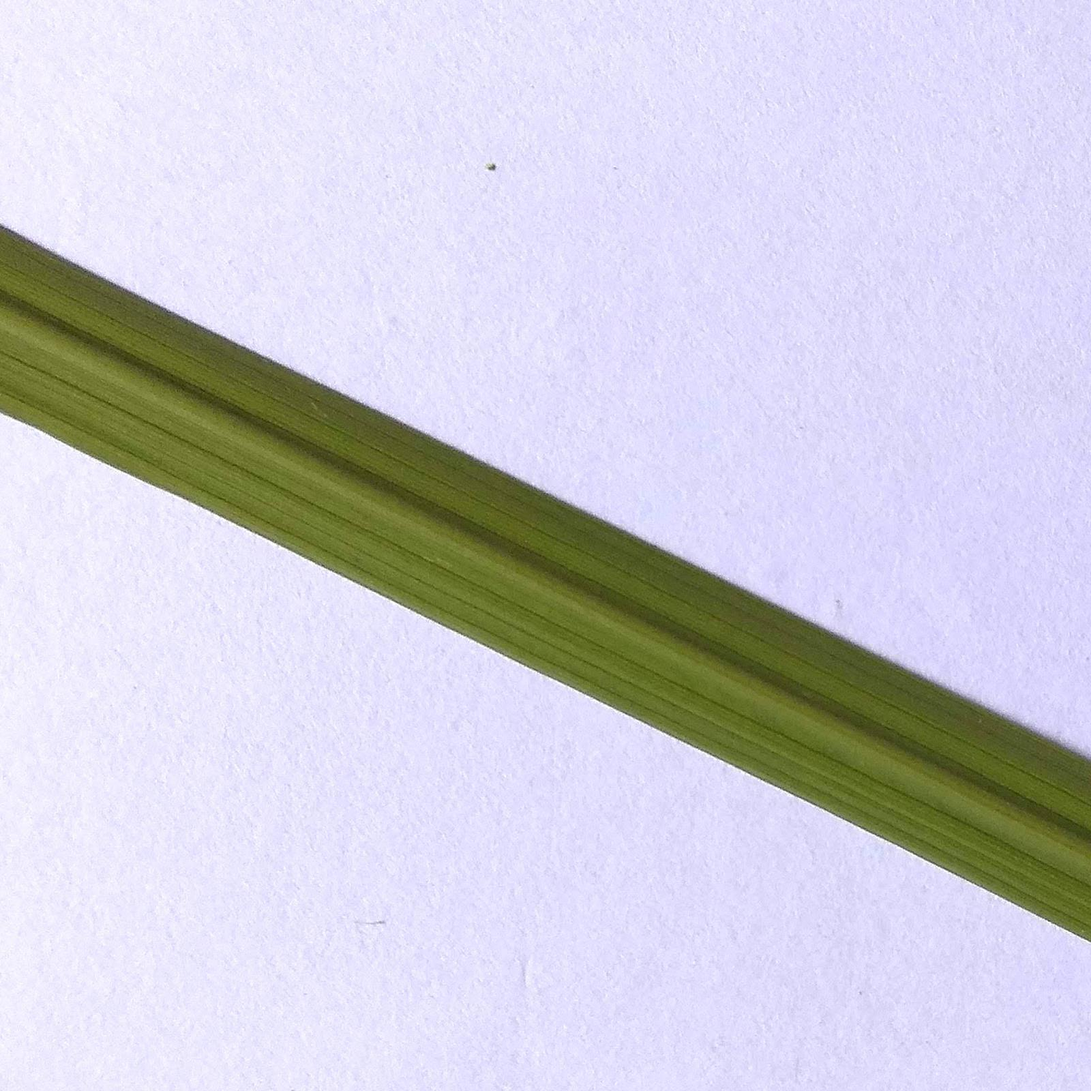Healthy: (2, 228, 1089, 938)
